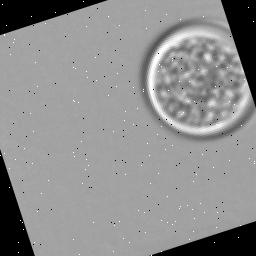picoshell: (142, 18, 254, 137)
